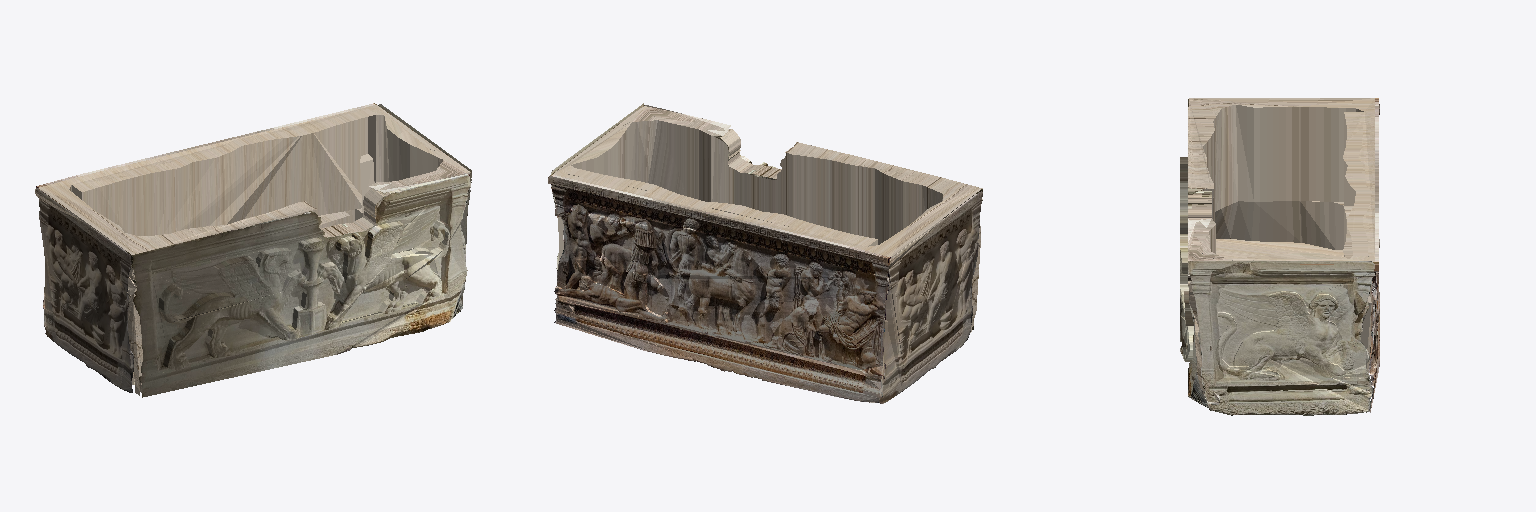
3 renders of one model, left to right at view 1: azimuth 30°, elevation 25°; view 2: azimuth 150°, elevation 25°; view 3: azimuth 270°, elevation 25°, orthographic.
Visible parts, largest first — view 1: obj5, obj7, obj3, obj2, obj6, obj1; view 2: obj1, obj2, obj3, obj7, obj6; view 3: obj4, obj2, obj7, obj1, obj5, obj6.
Boxes of the visible parts, x1=… form: obj5: x1=126, y1=174, x2=470, y2=397; obj7: x1=39, y1=105, x2=469, y2=235; obj3: x1=35, y1=188, x2=133, y2=392; obj2: x1=40, y1=115, x2=442, y2=384; obj6: x1=127, y1=186, x2=468, y2=395; obj1: x1=36, y1=103, x2=470, y2=327; obj1: x1=548, y1=105, x2=890, y2=402; obj2: x1=558, y1=116, x2=982, y2=292; obj3: x1=879, y1=191, x2=982, y2=403; obj7: x1=553, y1=107, x2=908, y2=329; obj6: x1=702, y1=118, x2=980, y2=332; obj4: x1=1188, y1=261, x2=1375, y2=415; obj2: x1=1188, y1=98, x2=1371, y2=390; obj7: x1=1216, y1=98, x2=1374, y2=372; obj1: x1=1188, y1=98, x2=1379, y2=412; obj5: x1=1180, y1=99, x2=1219, y2=407; obj6: x1=1188, y1=189, x2=1218, y2=399.
Bounding box in the file's own units: 1.91 × 0.8269 × 0.9648.
Materials: 7 (6 with a texture image).